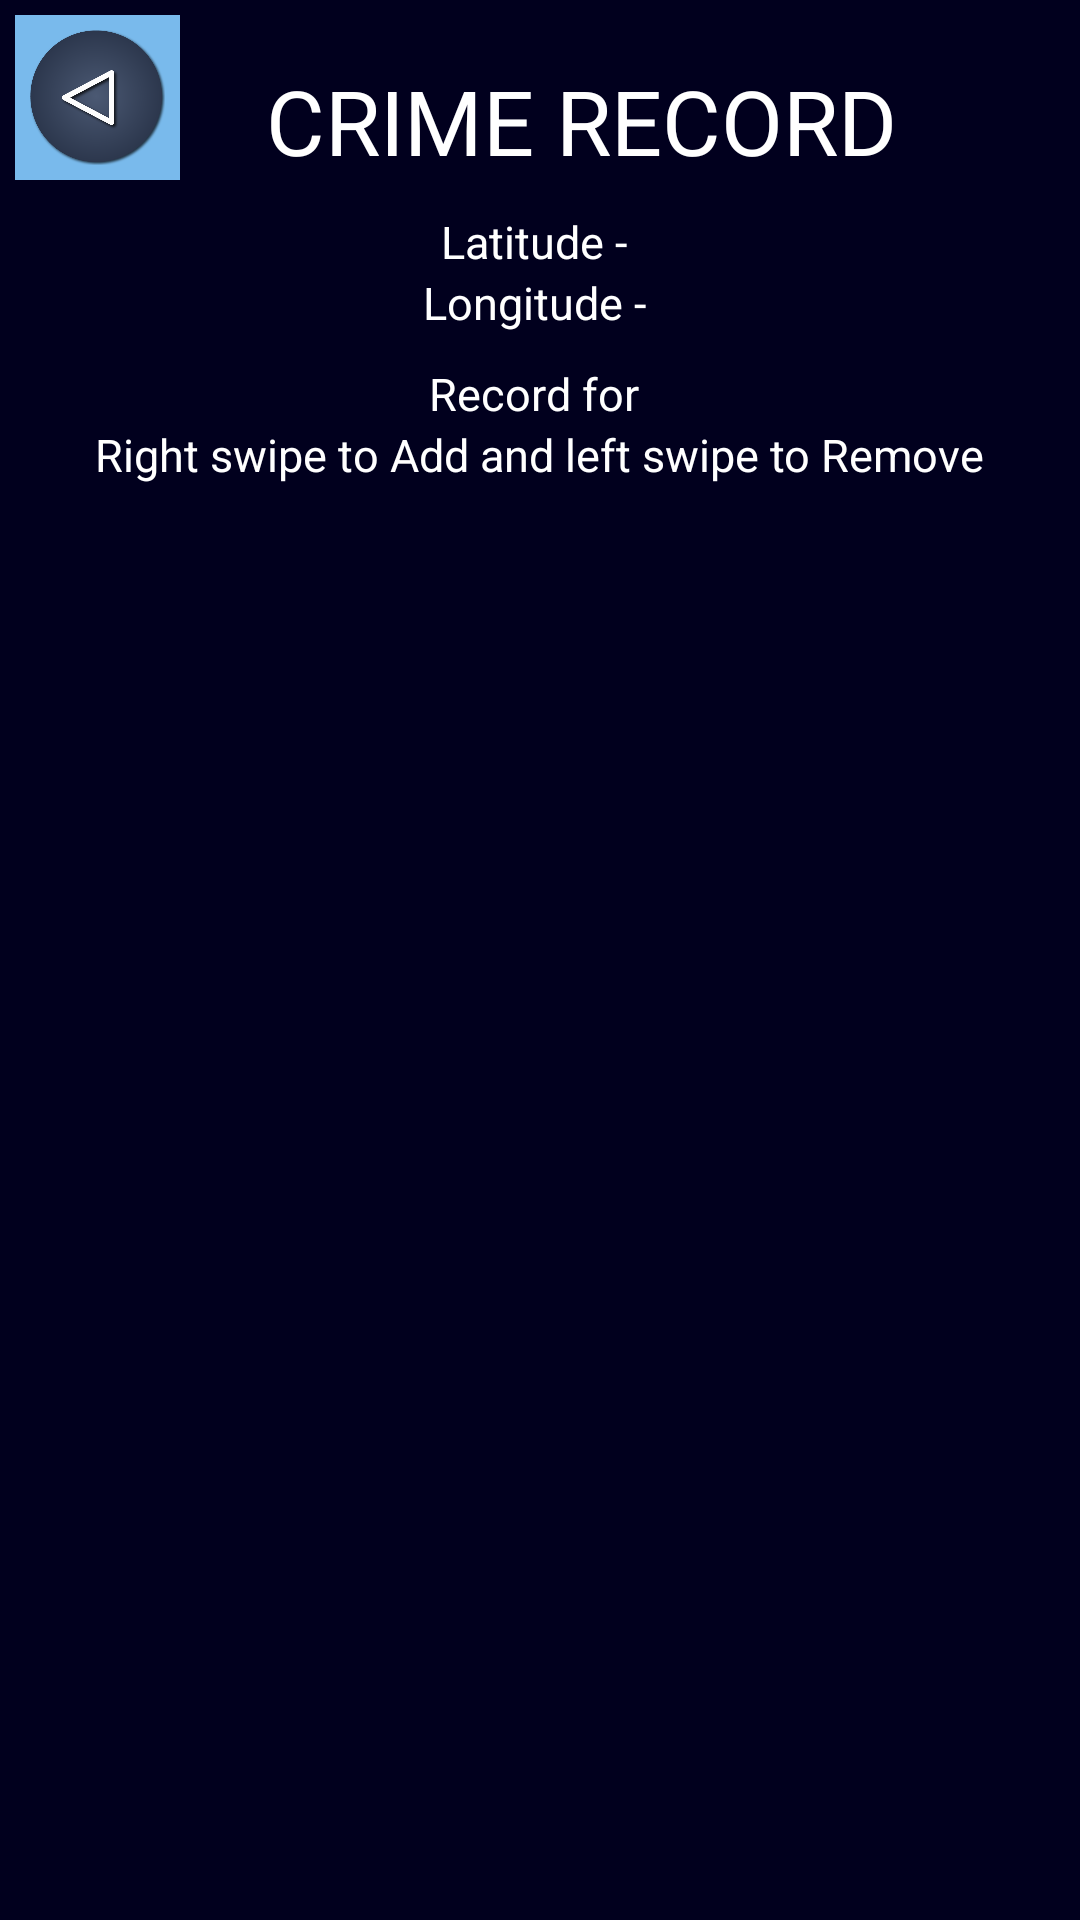

Locate icon controls on the screen. Image size 1080px x 1920px, boxes as (x1, y1, x2, y2).
backbutton: (15, 15, 180, 180)
